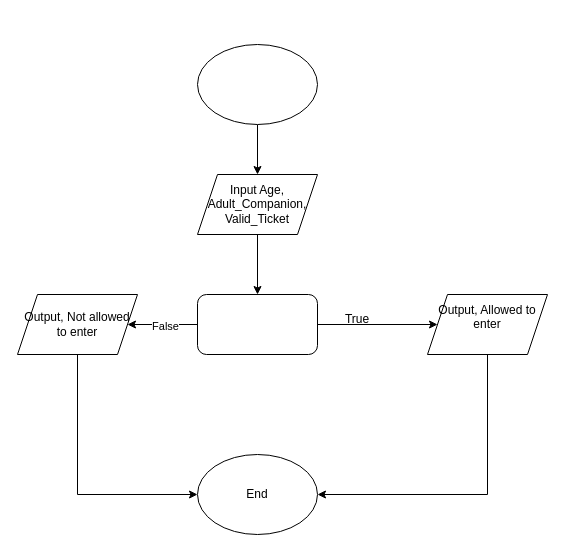
The diagram is 565 pixels wide and 552 high, and some of its shapes have lost their labels. Here are the shapes that lost their labels. From the top down, the centre of each, then its label:
[257,84]: Start
[257,324]: Valid_Ticket == True AND (Age >= 13 OR Adult_Companion == True)
